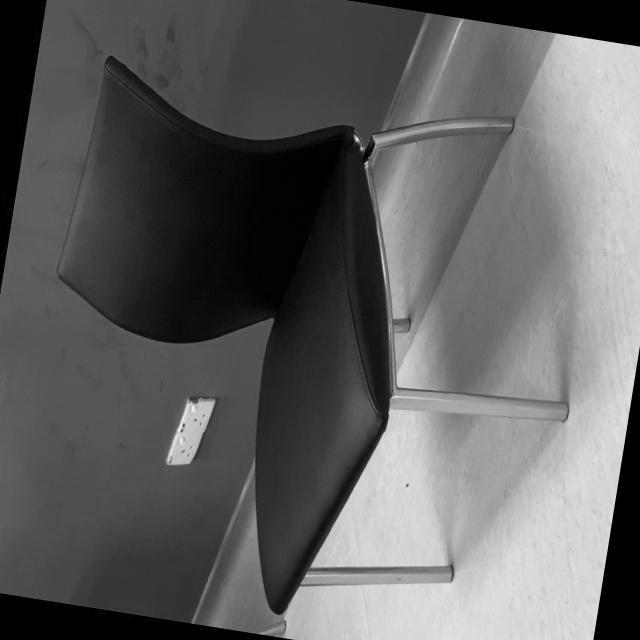chair: (6, 48, 617, 640)
